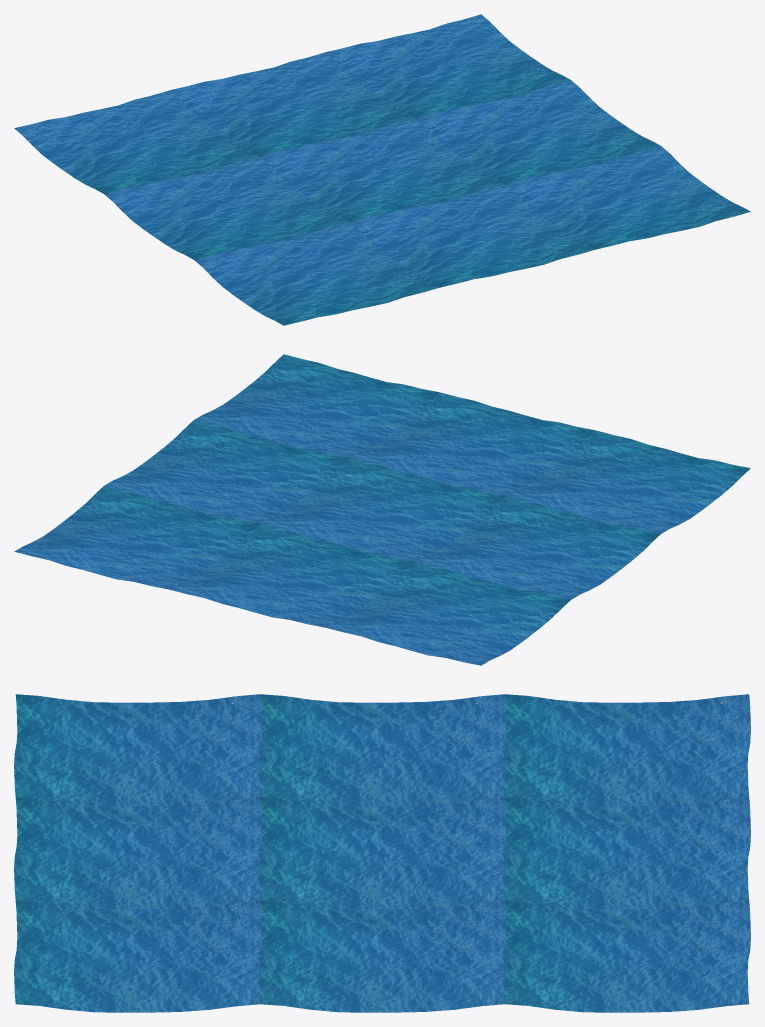
File: ocean_000015.obj
3 views of the same model, one above another, from view 1: azimuth 30°, elevation 25°; view 2: azimuth 150°, elevation 25°; view 3: azimuth 270°, elevation 25° (orthographic). The views are drawn at different scales.
Parts seen in each view (by area): view 1: Ocean_Plan.001; view 2: Ocean_Plan.001; view 3: Ocean_Plan.001.
Part boxes in pixels (x1,y1,x2,y2): Ocean_Plan.001: [14, 14, 750, 325]; Ocean_Plan.001: [14, 354, 750, 665]; Ocean_Plan.001: [14, 694, 750, 1012].
Bounding box in the file's own units: 109106 × 1442 × 109471.
1 material, 1 textured.
